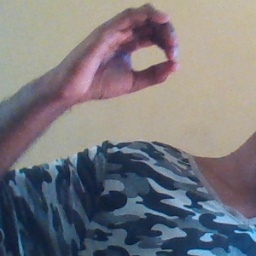O: (64, 2, 184, 108)
